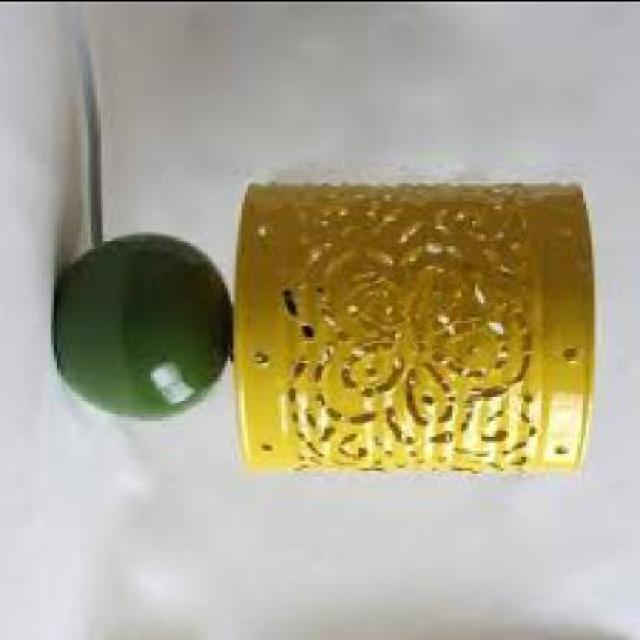METAL: (236, 182, 598, 475)
